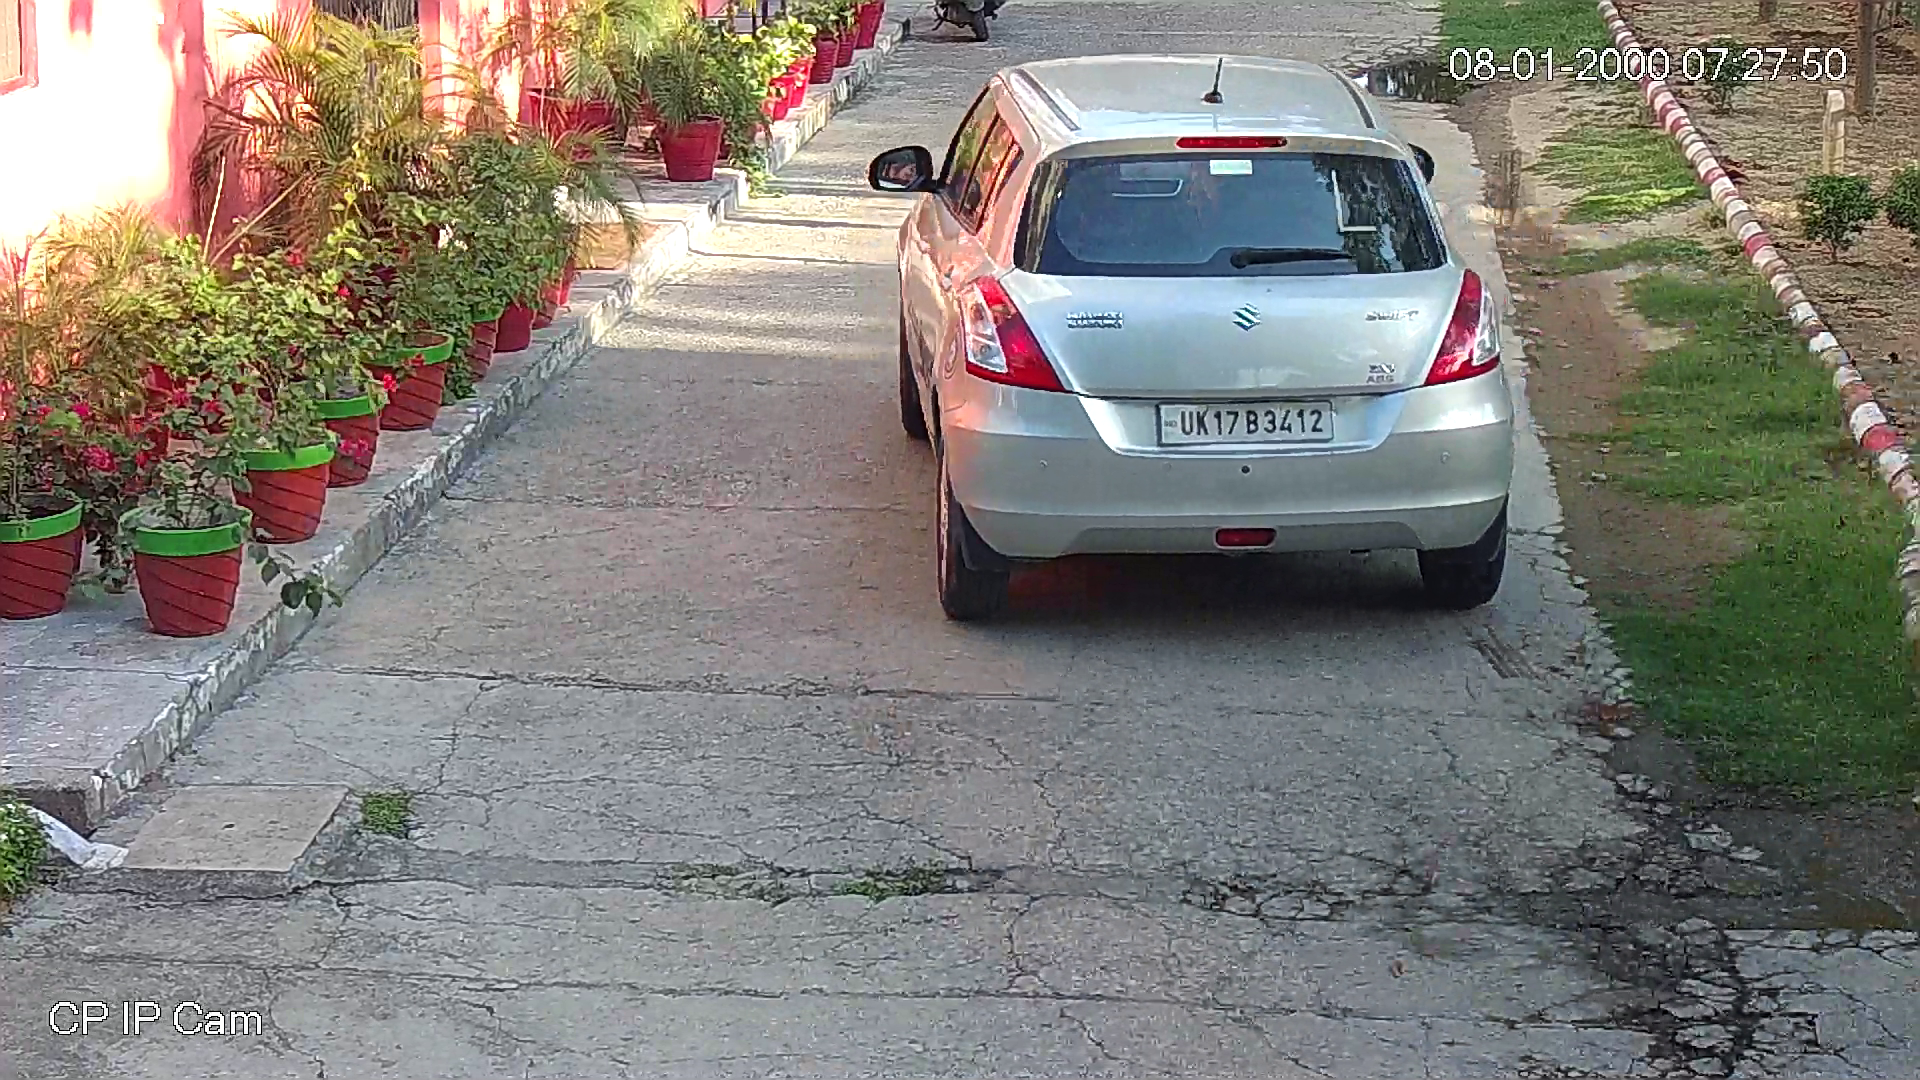plate: (1145, 390, 1339, 449)
